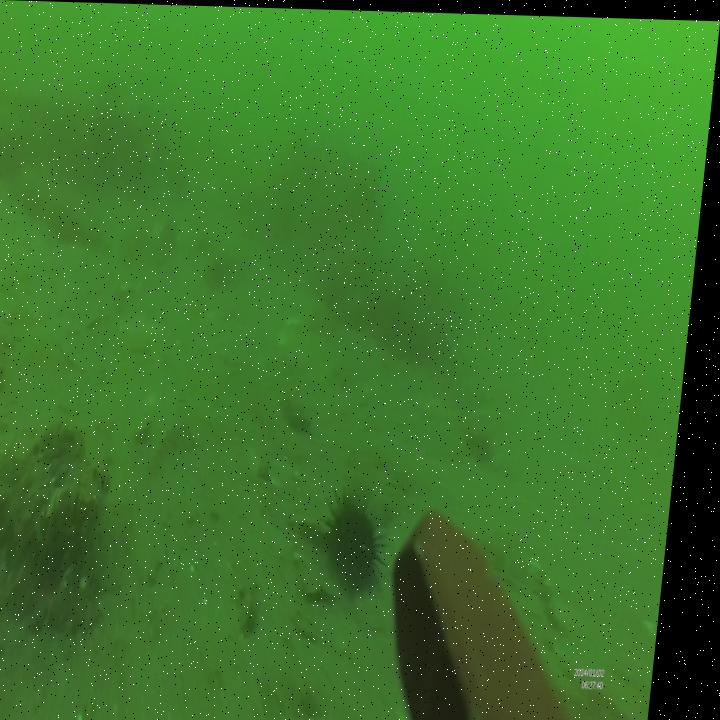echinus: (330, 488, 406, 593)
